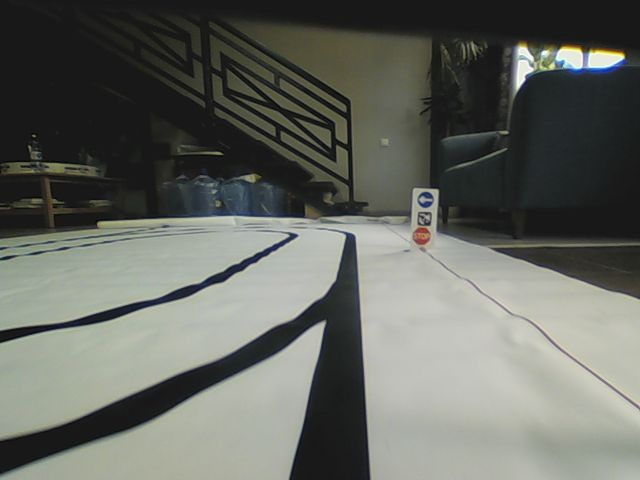Stop: (413, 227, 430, 247)
